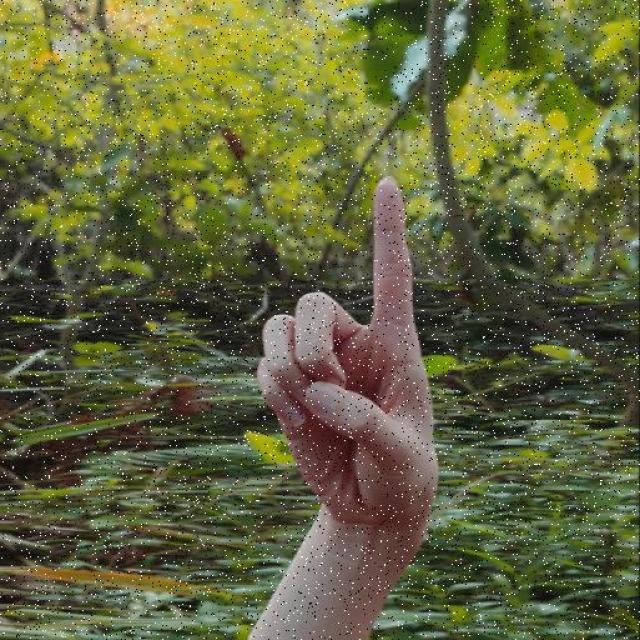D: (240, 165, 452, 566)
